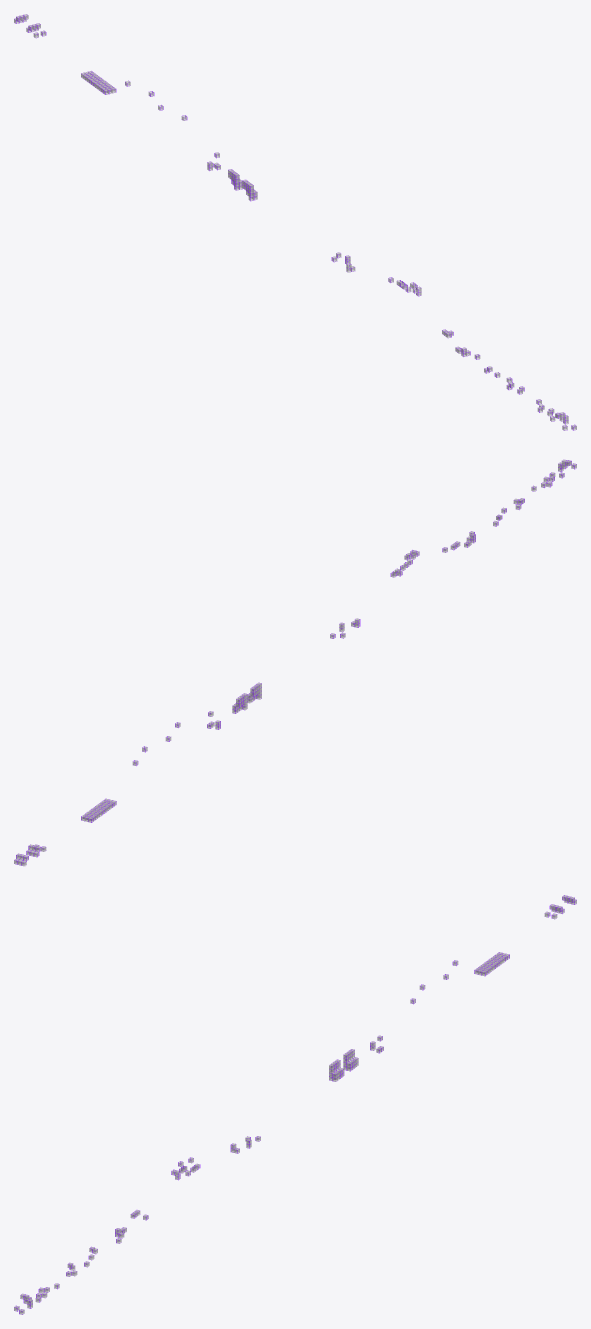
Rendered from Wall lvl10.fbx.
The picture shows the model from 3 angles, top to bottom: view 1: azimuth 30°, elevation 25°; view 2: azimuth 150°, elevation 25°; view 3: azimuth 330°, elevation 25°; orthographic projection.
Bounding box in the file's own units: 600 × 1500 × 53700.
